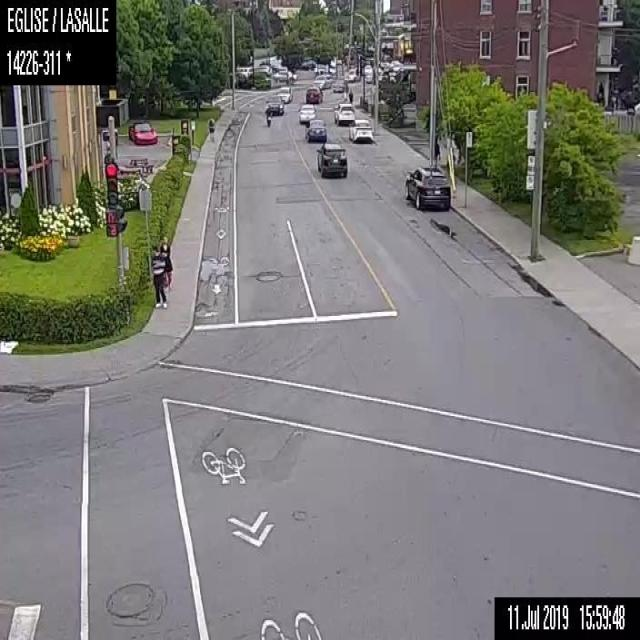pedestrian: (150, 249, 165, 308), (158, 235, 174, 290), (432, 132, 440, 164), (207, 116, 215, 141), (347, 85, 354, 102)
vehicle: (404, 164, 451, 209), (314, 142, 346, 176), (126, 118, 158, 144), (347, 117, 373, 143), (304, 117, 327, 142), (332, 100, 356, 122), (264, 92, 283, 114), (298, 102, 317, 124), (378, 59, 402, 76), (304, 85, 323, 102), (314, 72, 332, 88), (273, 70, 297, 81), (277, 85, 292, 102), (331, 77, 346, 92), (344, 67, 360, 81), (364, 61, 374, 83), (264, 104, 271, 127)
